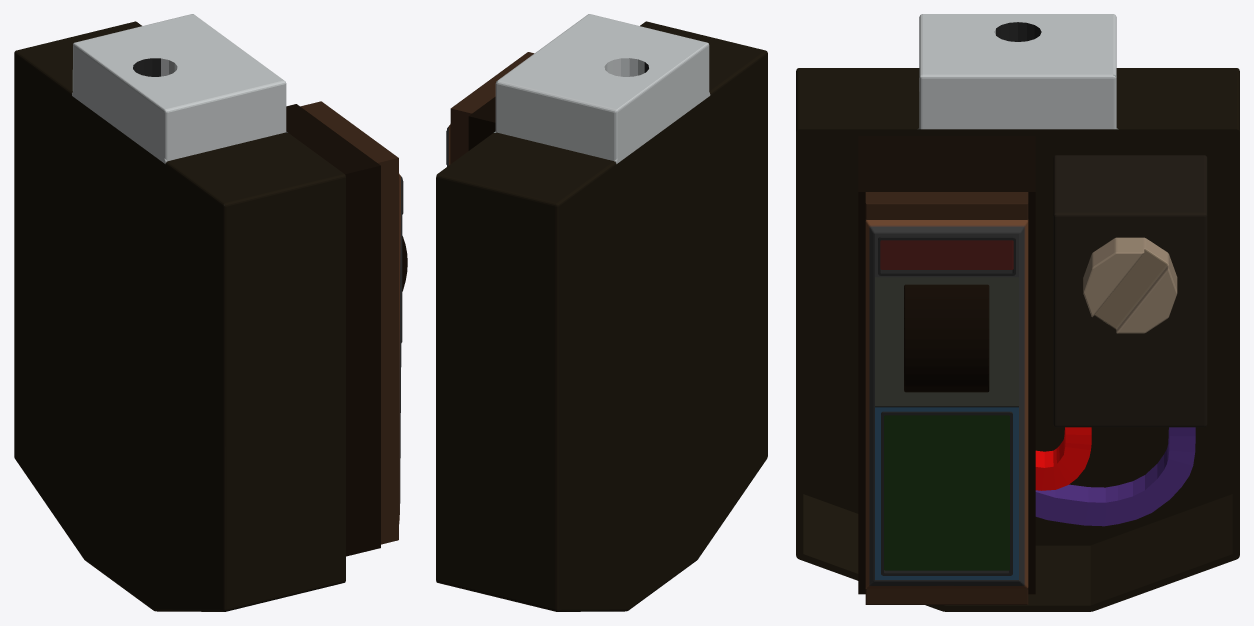
Rendered from CircuitBreakerSmart_BuildState0.fbx.
3 renders of one model, left to right at view 1: azimuth 30°, elevation 25°; view 2: azimuth 150°, elevation 25°; view 3: azimuth 270°, elevation 25°, orthographic. The views are drawn at different scales.
Parts seen in each view (by area): view 1: CircuitBreakerSmart_BuildState0; view 2: CircuitBreakerSmart_BuildState0; view 3: CircuitBreakerSmart_BuildState0.
Boxes of the visible parts, x1=… form: CircuitBreakerSmart_BuildState0: x1=14, y1=14, x2=407, y2=611; CircuitBreakerSmart_BuildState0: x1=436, y1=14, x2=767, y2=611; CircuitBreakerSmart_BuildState0: x1=796, y1=14, x2=1239, y2=611.
Bounding box in the file's own units: 37.5 × 50 × 24.16.
